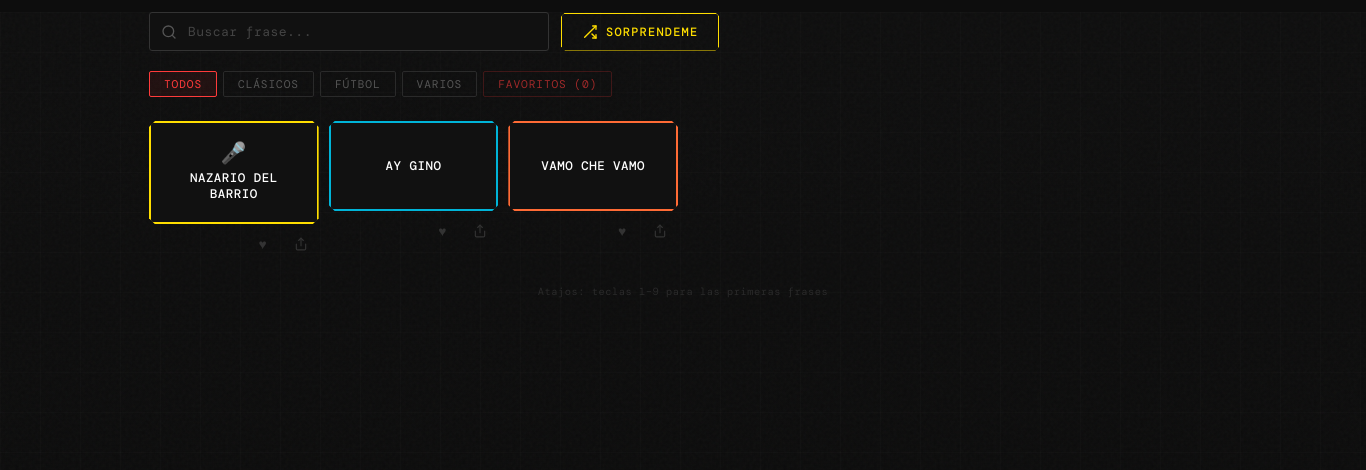
Scenario: Soundboard › filtro por categoría muestra solo los botones de esa categoría
The width and height of the screenshot is (1366, 470).
Click the tab "Fútbol".
click(358, 84)  # box [320,71,396,97]
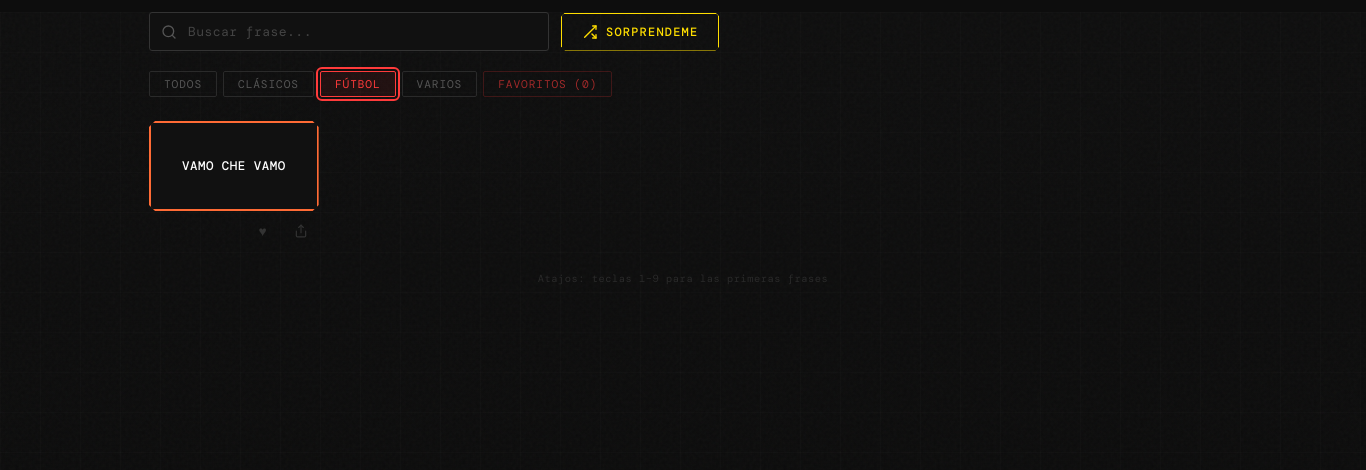
Expected: the text "Vamo Che Vamo" is shown, [182,158,286,174]
Expected: the button "Nazario del barrio" is gone
Expected: the button "Ay Gino" is gone
